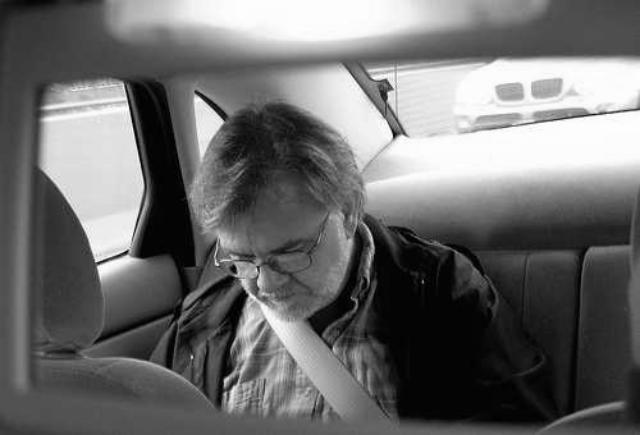Seatbelt: (256, 295, 394, 423)
